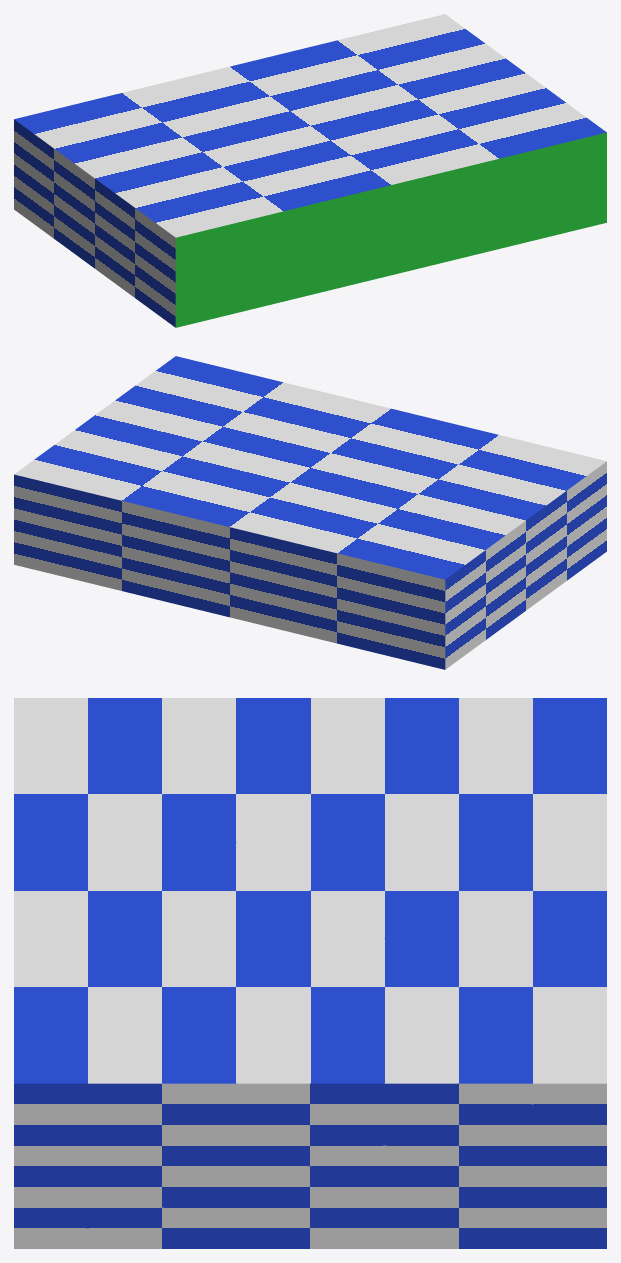
Rendered from 17_placeholder.glb.
3 views of the same model, one above another, from view 1: azimuth 30°, elevation 25°; view 2: azimuth 150°, elevation 25°; view 3: azimuth 270°, elevation 25° (orthographic). The views are drawn at different scales.
Visible parts, largest first — view 1: Book (placeholder box); view 2: Book (placeholder box); view 3: Book (placeholder box).
Boxes of the visible parts, <box> form: Book (placeholder box): <box>14,14,606,327</box>; Book (placeholder box): <box>14,356,606,669</box>; Book (placeholder box): <box>14,698,606,1248</box>.
Size of the model in its own units: 0.2 by 0.04 by 0.13.
1 material, 1 textured.
